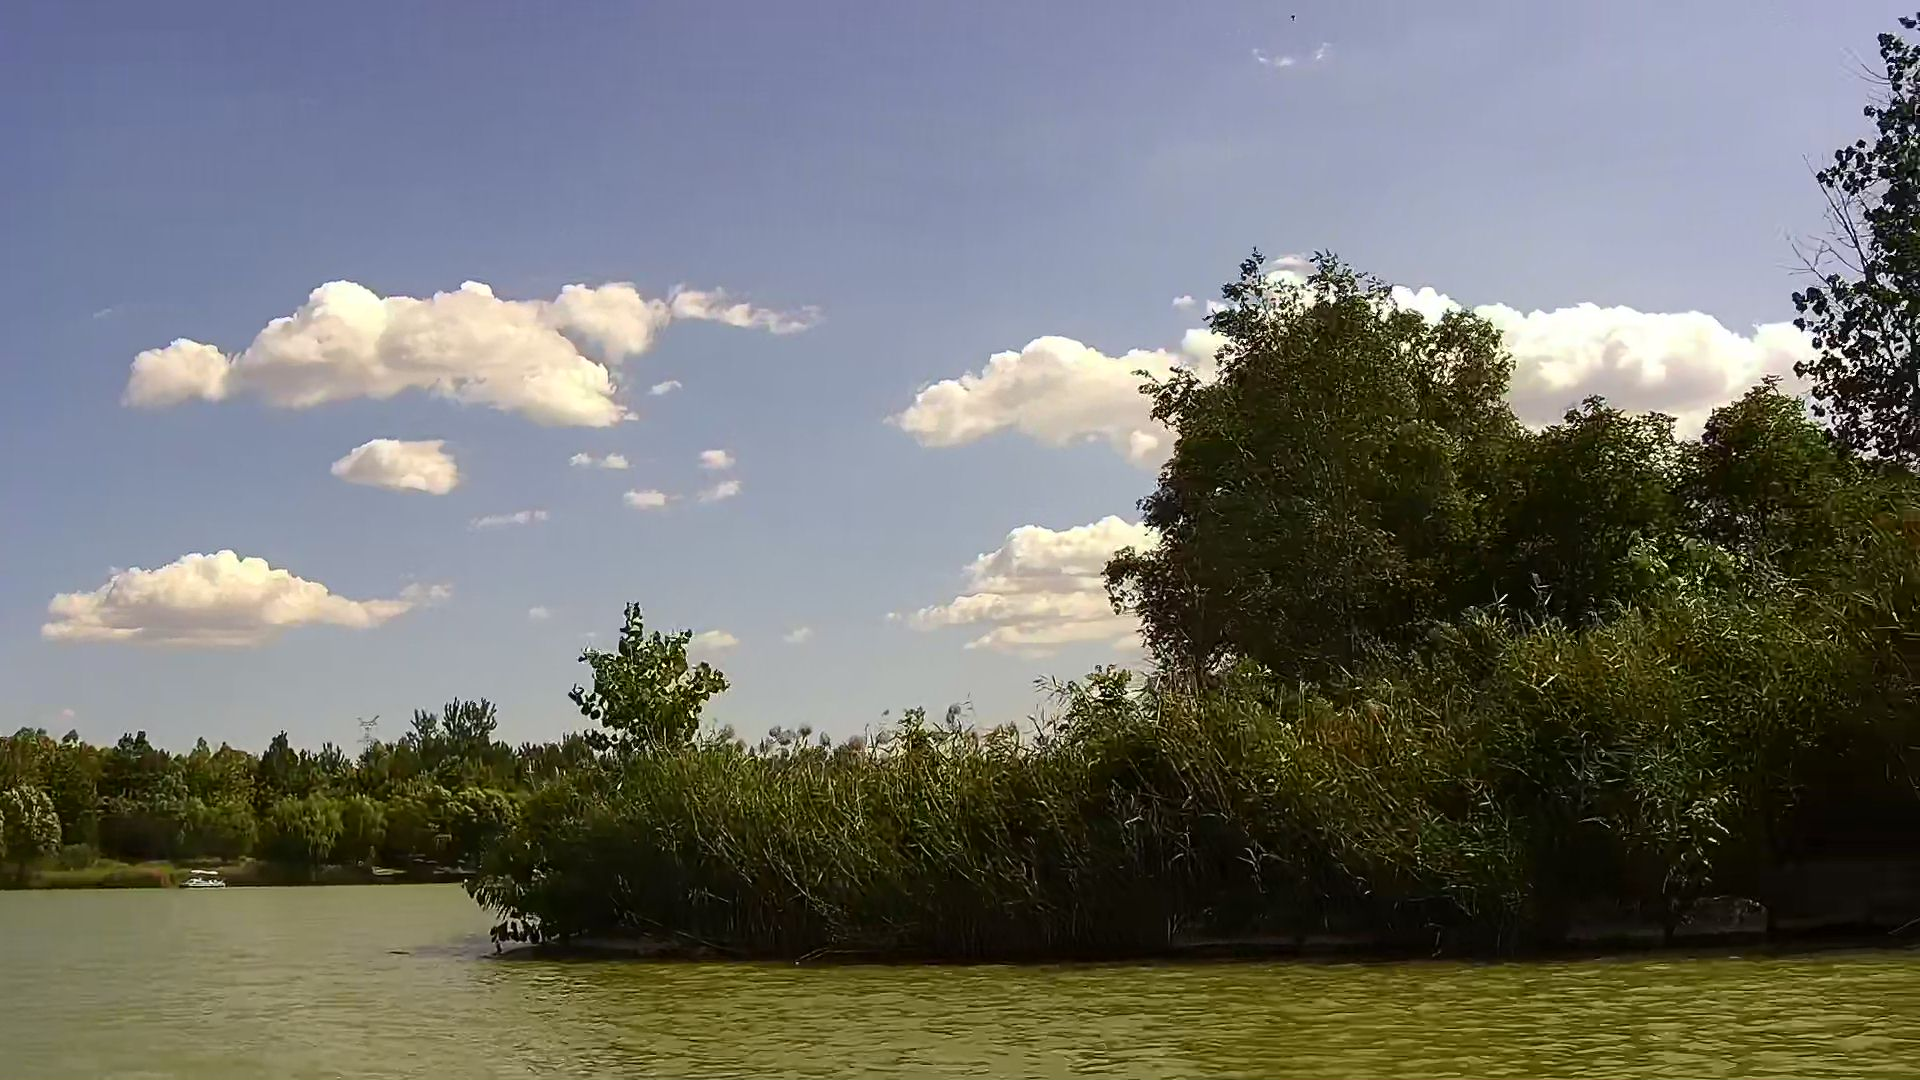boat: (178, 866, 229, 887)
